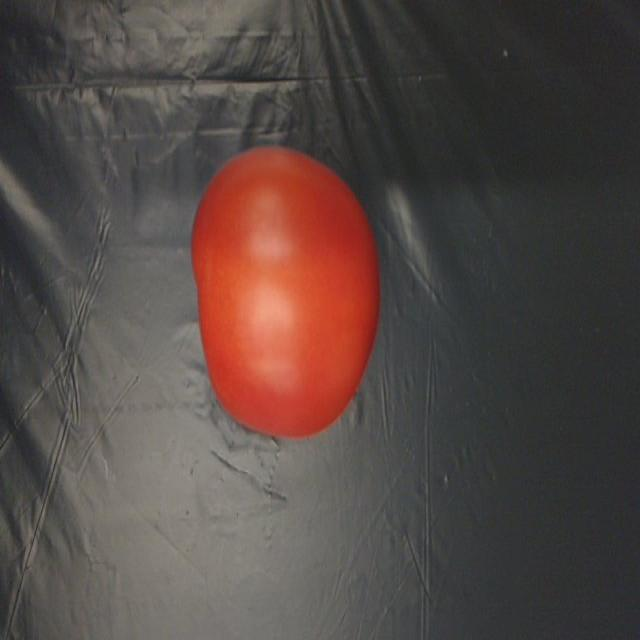kirmizi: (187, 141, 400, 442)
